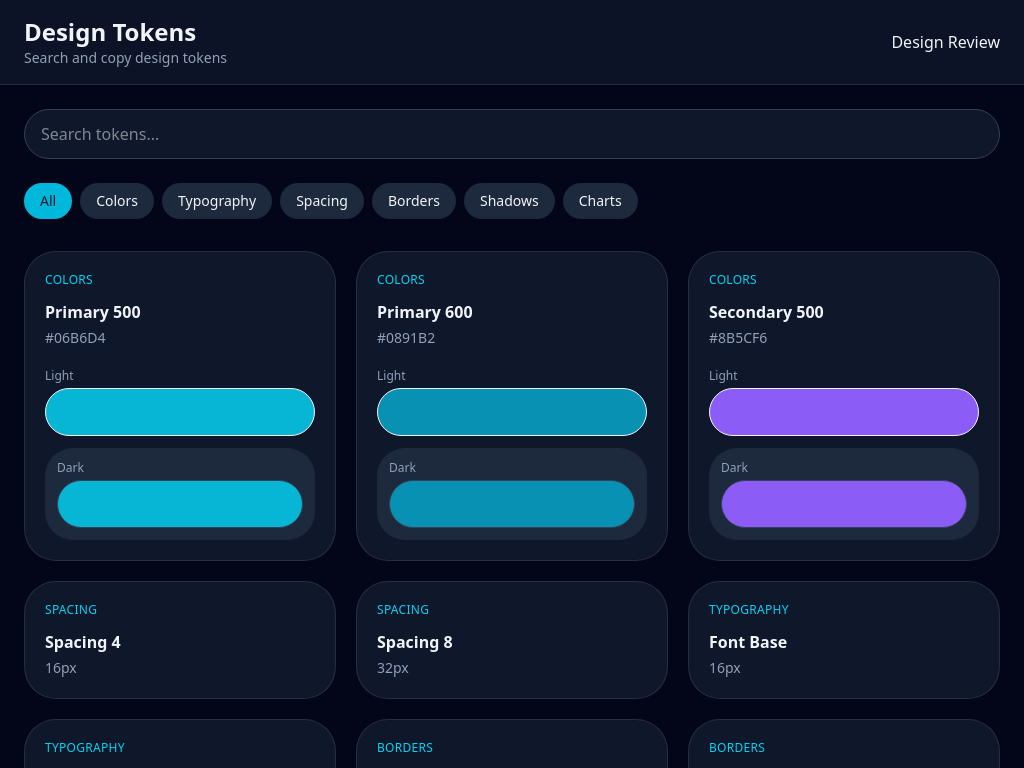
Test: DesignTokensPage › filters tokens by search input
The image size is (1024, 768).
In the field with placeholder "Search tokens...": (512, 134) [24, 109, 1000, 159], type "Primary 500"
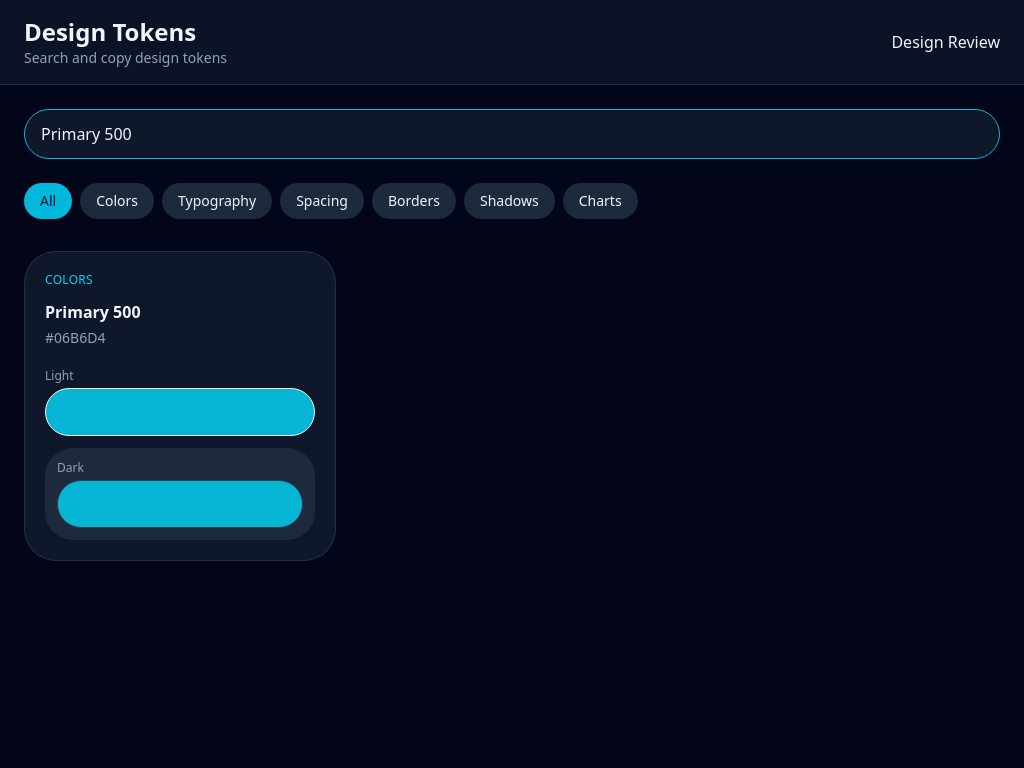
Expected: the heading "Primary 500" is shown, [45, 301, 141, 323]
Expected: the heading "Spacing 4" is gone
